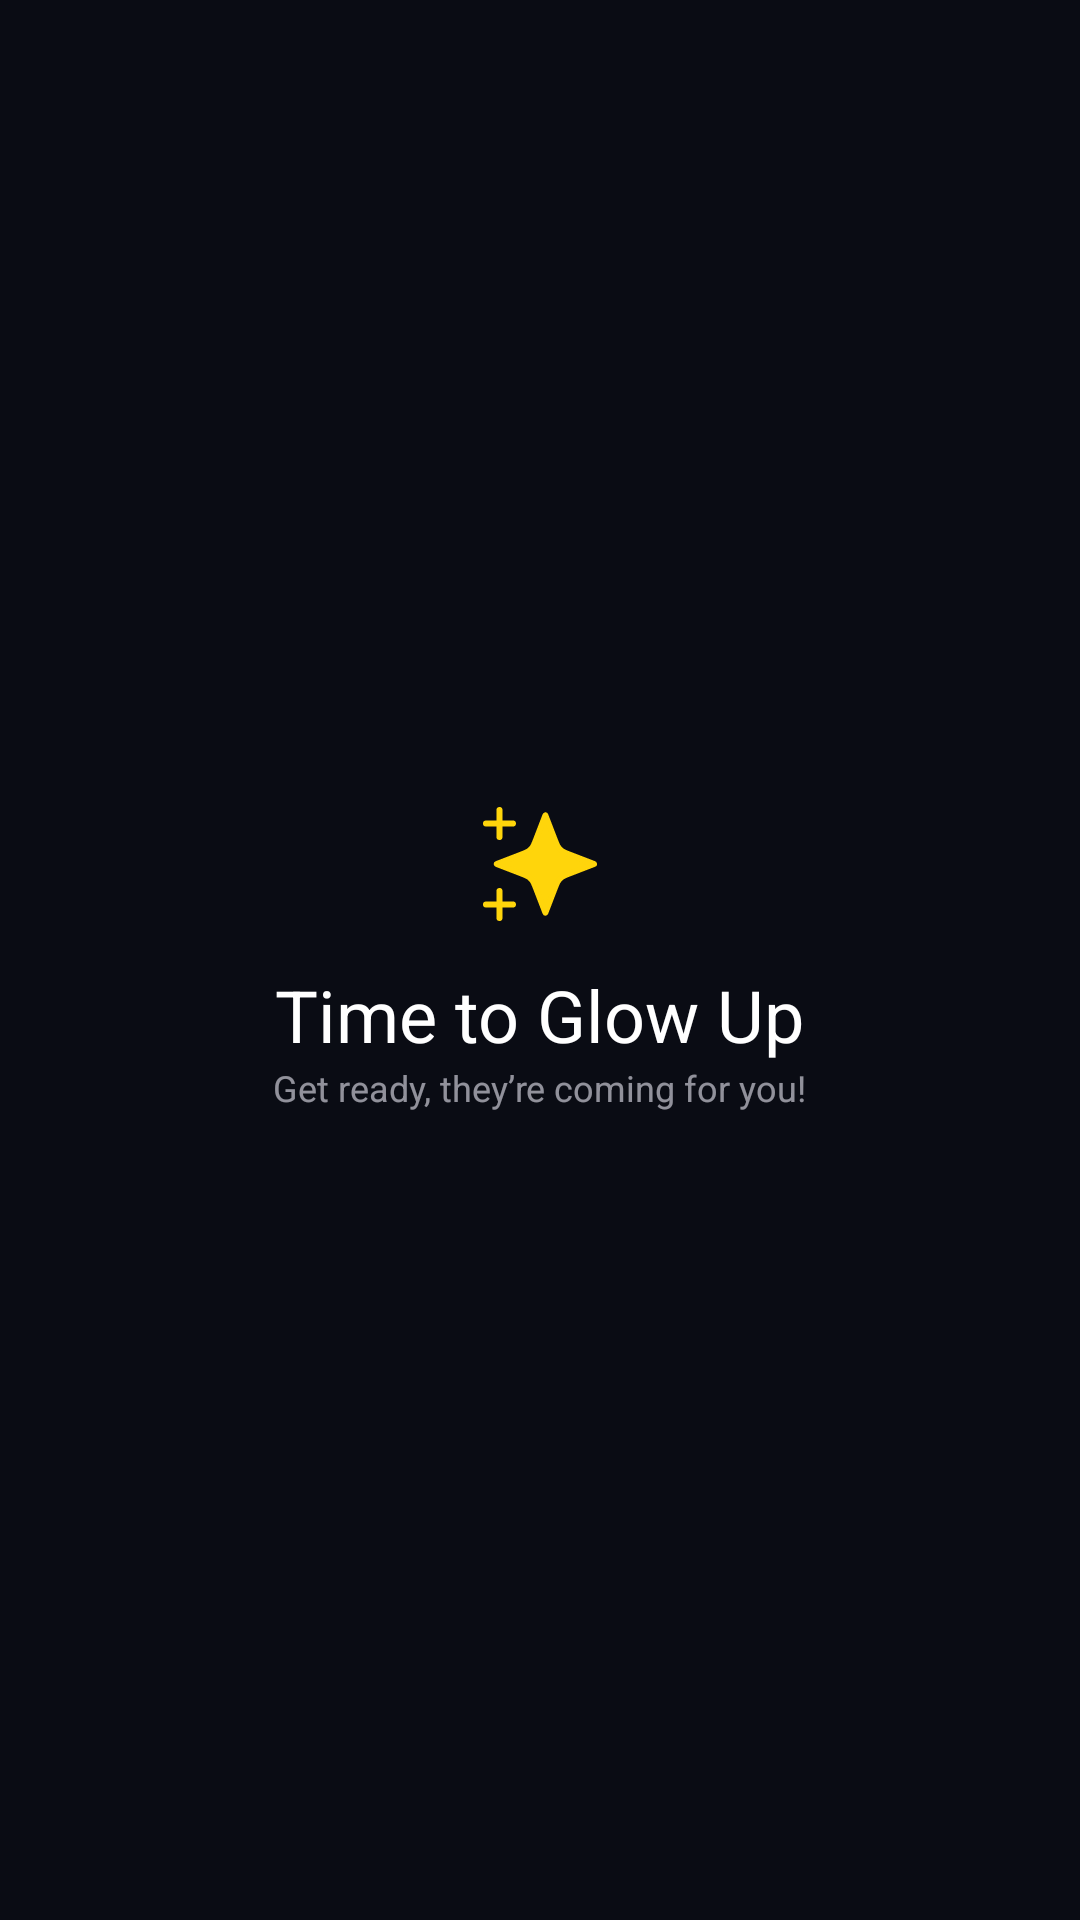

Where to tap for icons on this 1080w x 1920h app screen, as [x,y]:
stars: [540,864]
